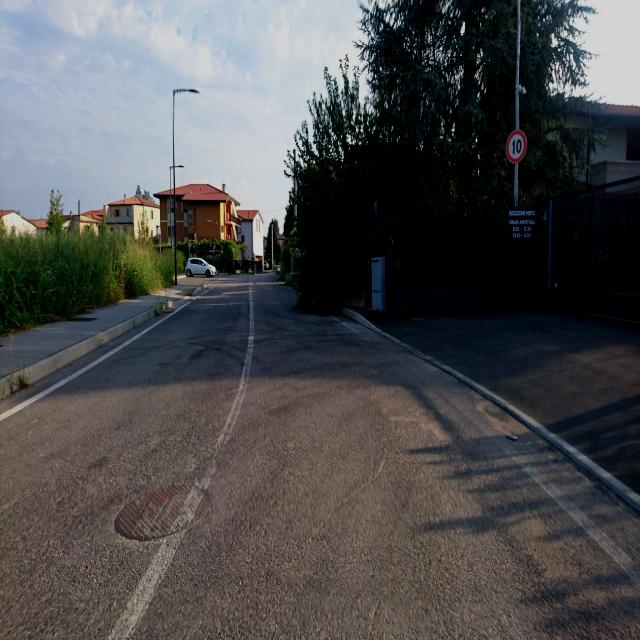car: (185, 255, 218, 278)
